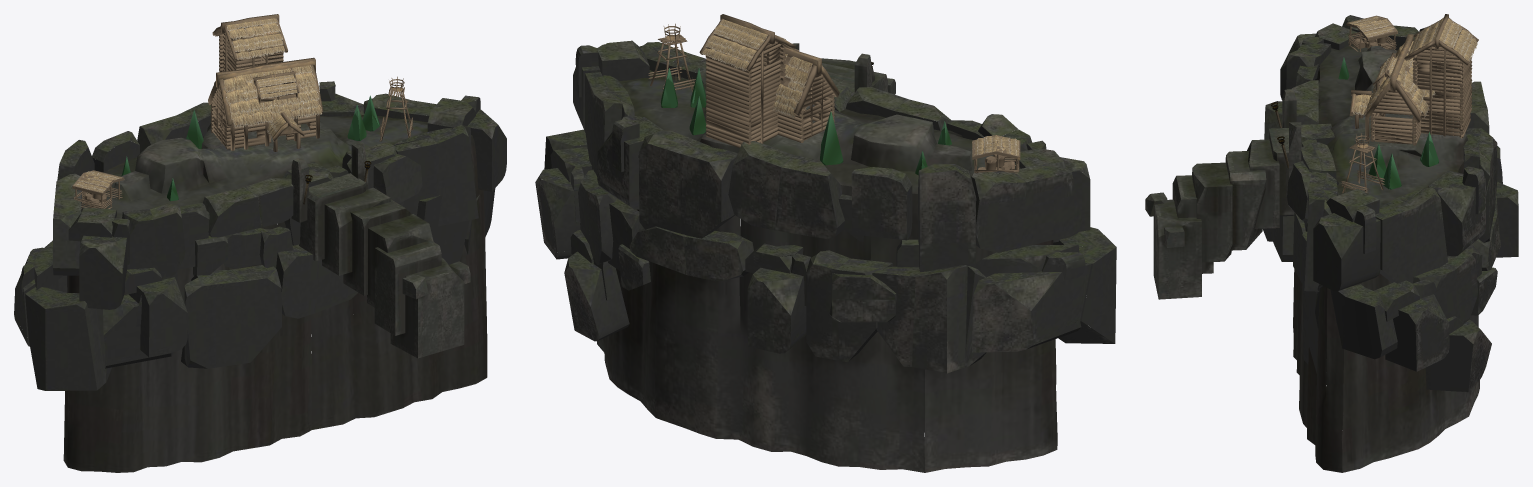
Rendered from townhall.glb.
3 renders of one model, left to right at view 1: azimuth 30°, elevation 25°; view 2: azimuth 150°, elevation 25°; view 3: azimuth 270°, elevation 25°, orthographic. The views are drawn at different scales.
Visible parts, largest first — view 1: townhall; view 2: townhall; view 3: townhall.
Part boxes in pixels (x1,y1,x2,y2): townhall: [14, 14, 506, 472]; townhall: [535, 14, 1116, 472]; townhall: [1145, 14, 1518, 472].
Size of the model in its own units: 3.72 by 2.64 by 2.5.
Materials: 10 (10 with a texture image).
